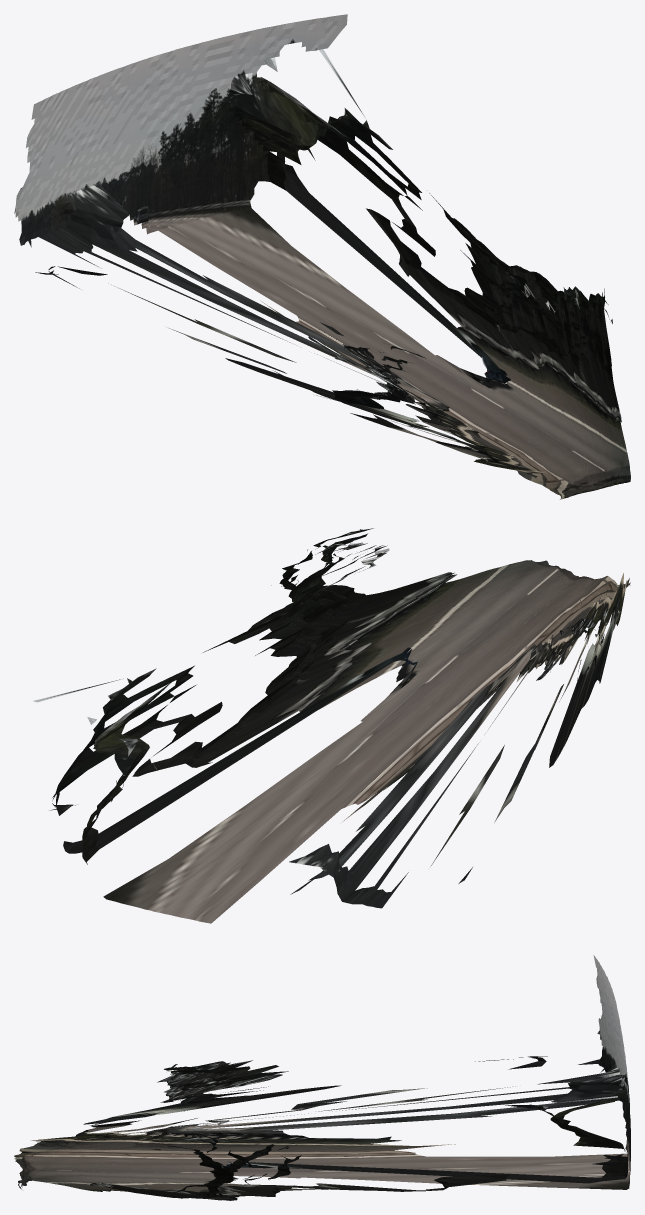
3 views of the same model, one above another, from view 1: azimuth 30°, elevation 25°; view 2: azimuth 150°, elevation 25°; view 3: azimuth 270°, elevation 25° (orthographic). The views are drawn at different scales.
Visible parts, largest first — view 1: defaultobject; view 2: defaultobject; view 3: defaultobject.
Part boxes in pixels (<box>): defaultobject: <box>14,14,630,499</box>; defaultobject: <box>33,528,630,923</box>; defaultobject: <box>14,955,630,1200</box>.
Bounding box in the file's own units: 24.99 × 11.77 × 44.57.
Materials: 1 (1 with a texture image).
